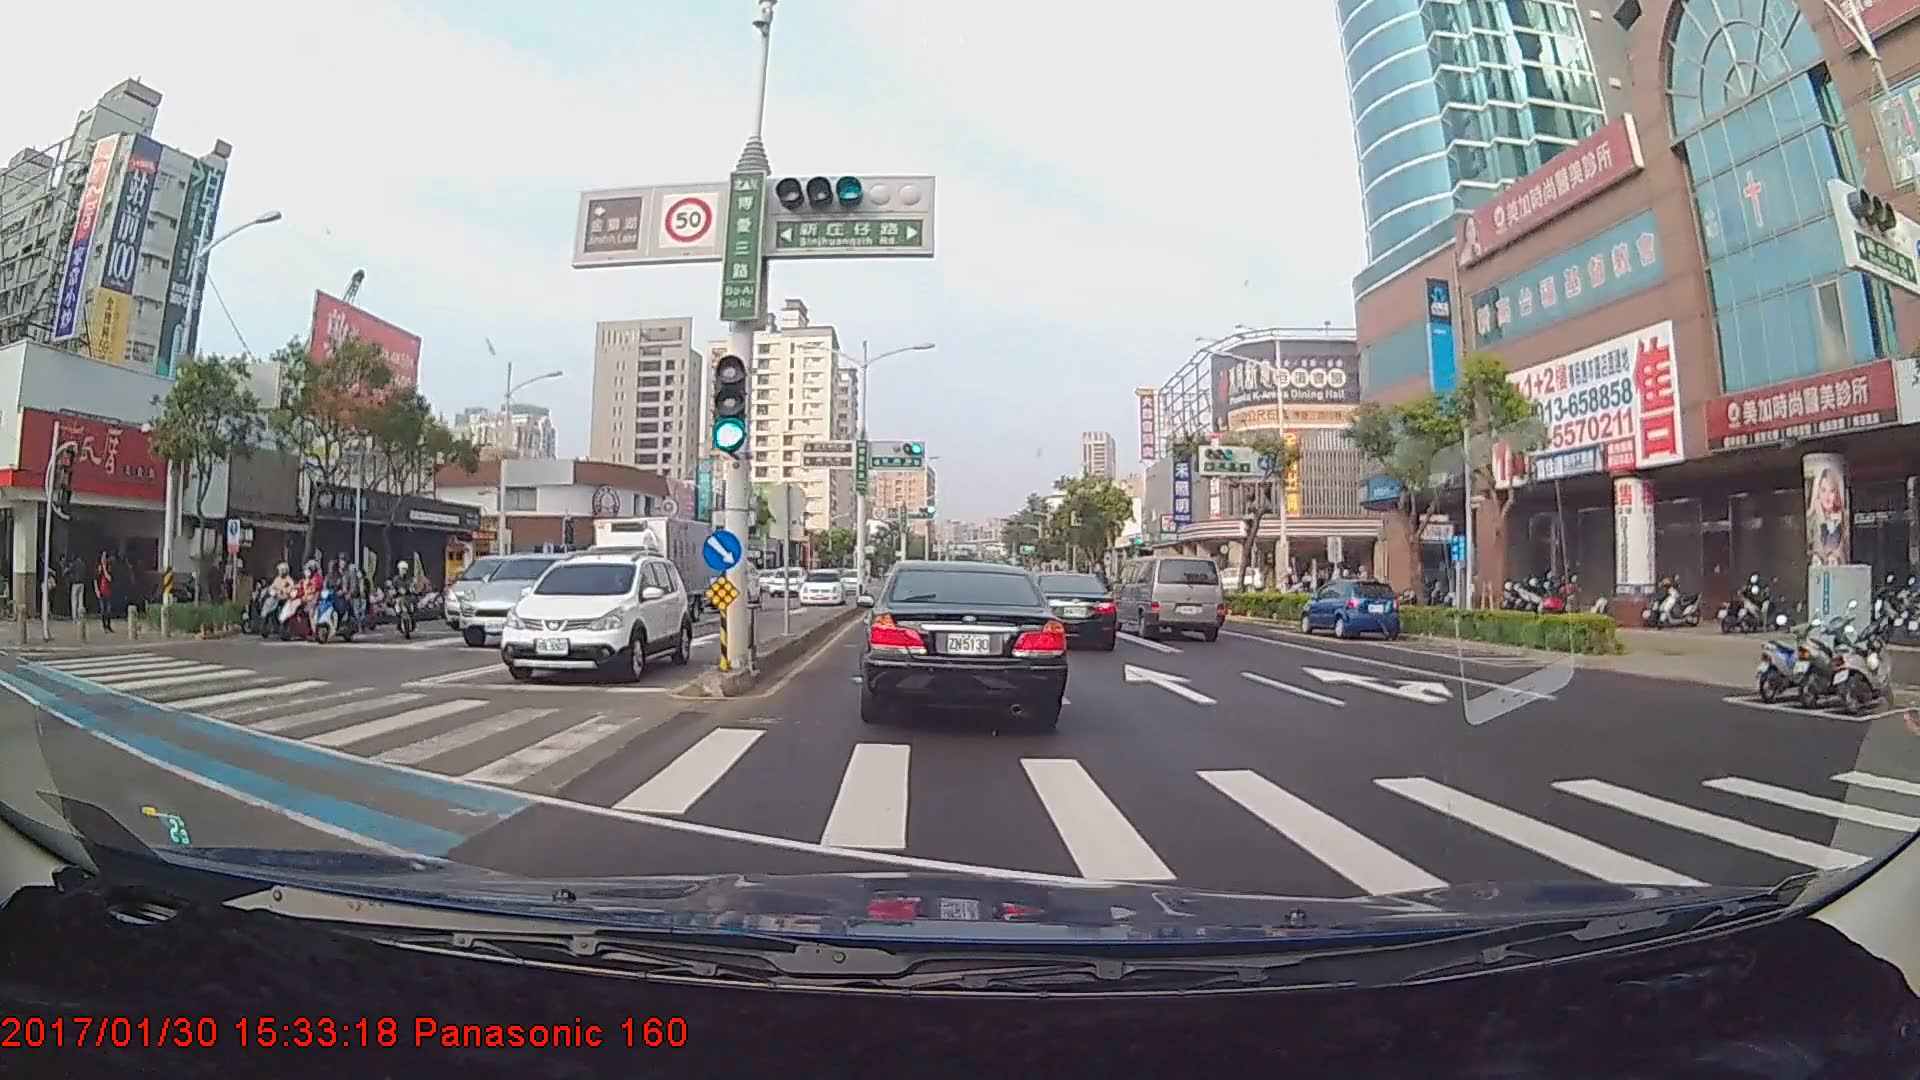pedestrian: (95, 549, 119, 638), (39, 552, 62, 630), (68, 554, 91, 625)
rider: (306, 561, 378, 652), (267, 564, 337, 646), (239, 560, 307, 638), (387, 557, 432, 645)
vehicle: (863, 553, 1066, 728), (502, 552, 689, 682), (569, 512, 711, 643), (458, 552, 591, 647), (1118, 554, 1225, 641), (1015, 575, 1116, 657), (1302, 576, 1398, 641), (698, 559, 762, 610), (795, 575, 841, 610), (769, 570, 800, 600)
